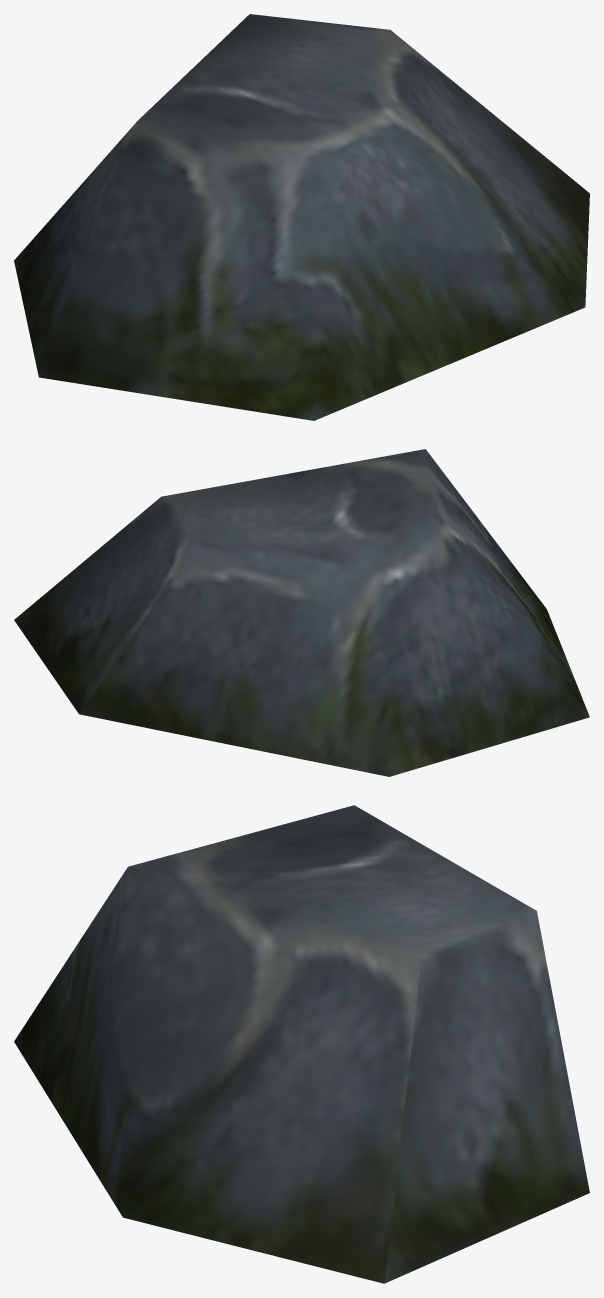
Rendered from C_shitou004.fbx.
3 renders of one model, top to bottom at view 1: azimuth 30°, elevation 25°; view 2: azimuth 150°, elevation 25°; view 3: azimuth 270°, elevation 25°, orthographic. The views are drawn at different scales.
Parts seen in each view (by area): view 1: C_shitou004; view 2: C_shitou004; view 3: C_shitou004.
Part boxes in pixels (left/top/right/bottom): C_shitou004: left=14, top=14, right=589, bottom=420; C_shitou004: left=14, top=449, right=589, bottom=776; C_shitou004: left=14, top=805, right=589, bottom=1283.
Size of the model in its own units: 51.77 by 16.21 by 37.96.
